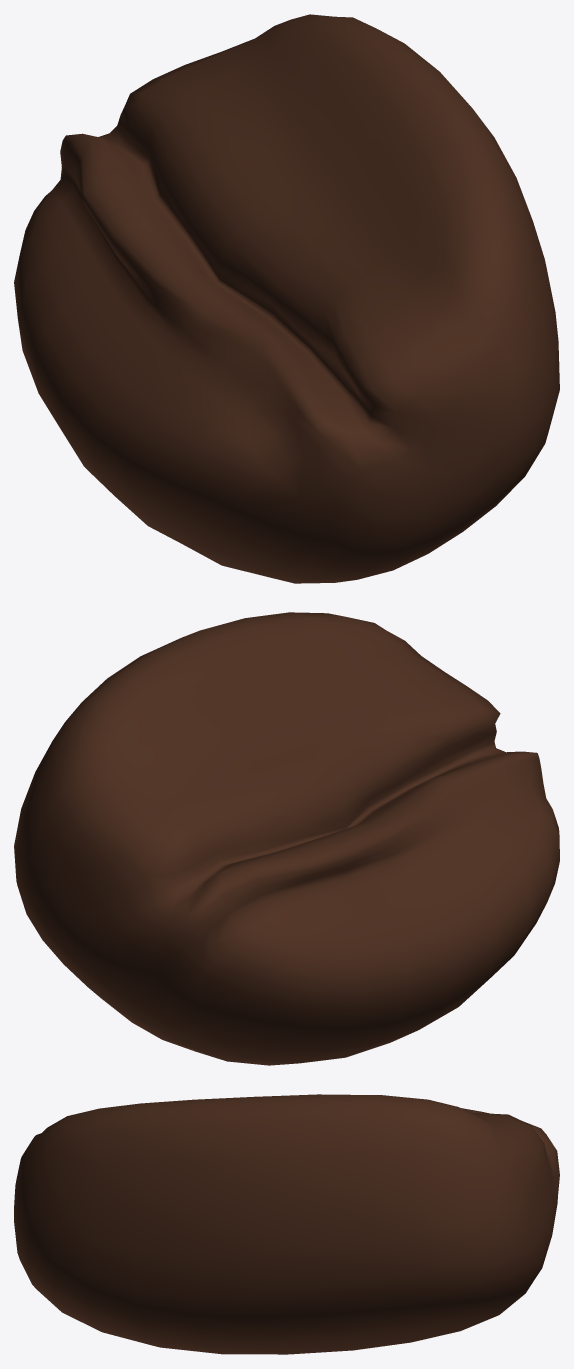
Rendered from Coffee_bean.glb.
3 renders of one model, top to bottom at view 1: azimuth 30°, elevation 25°; view 2: azimuth 150°, elevation 25°; view 3: azimuth 270°, elevation 25°, orthographic. The views are drawn at different scales.
Parts seen in each view (by area): view 1: coffee bean.152; view 2: coffee bean.152; view 3: coffee bean.152.
Boxes of the visible parts, <box> form: coffee bean.152: <box>14,14,559,583</box>; coffee bean.152: <box>14,612,559,1065</box>; coffee bean.152: <box>14,1094,559,1354</box>.
Bounding box in the file's own units: 0.00562 × 0.00504 × 0.00786.
